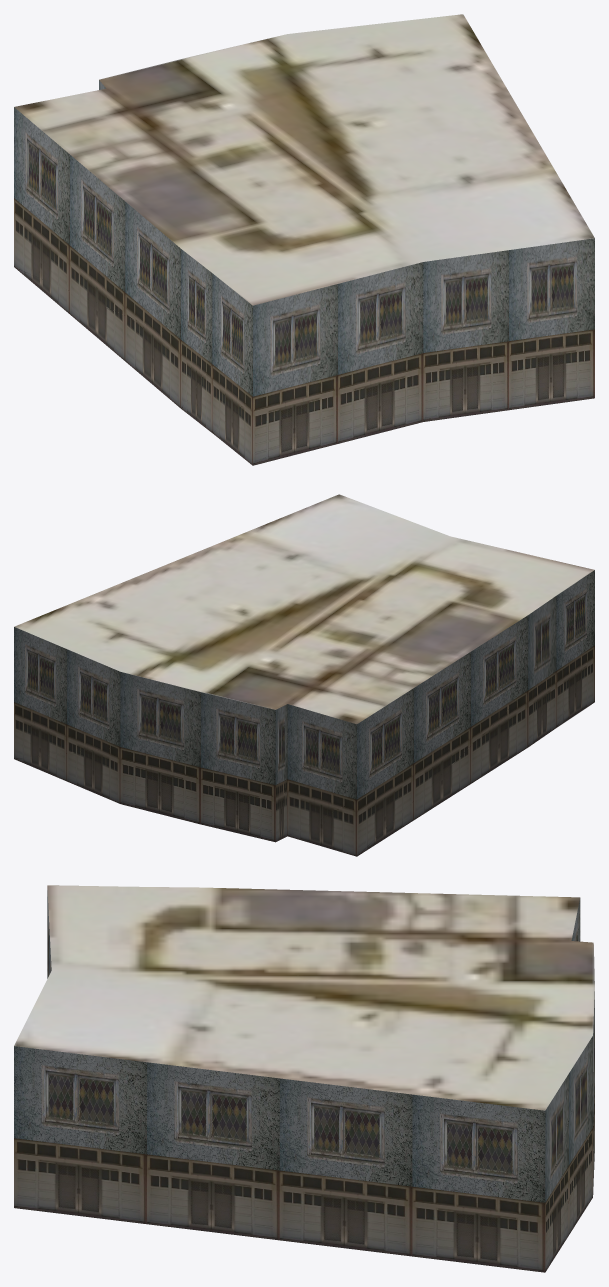
The model's file is T_1SXRD4NV4U.dae.
3 views of the same model, one above another, from view 1: azimuth 30°, elevation 25°; view 2: azimuth 150°, elevation 25°; view 3: azimuth 270°, elevation 25° (orthographic). The views are drawn at different scales.
Visible parts, largest first — view 1: SketchUp (×11); view 2: SketchUp (×17); view 3: SketchUp (×5).
Boxes of the visible parts, x1,y1,x2,y2 form: SketchUp (×11): [14, 14, 594, 465]; SketchUp (×17): [14, 494, 594, 856]; SketchUp (×5): [14, 885, 594, 1272].
Bounding box in the file's own units: 22.83 × 24.87 × 7.65.
Materials: 3 (3 with a texture image).
